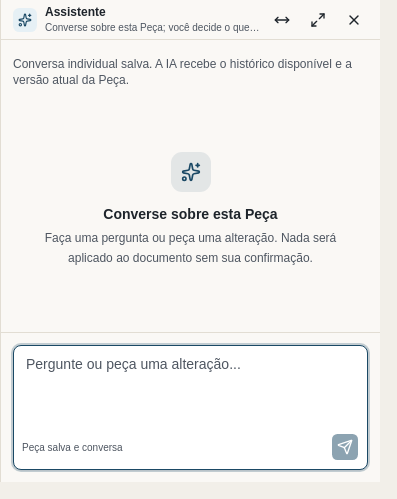
AssistantPanel › cancela a solicitação e não altera o documento
Type "Analise a peça." into the text box named "O que você quer que a IA faça?" at (190, 386), box 14,346 -> 367,426
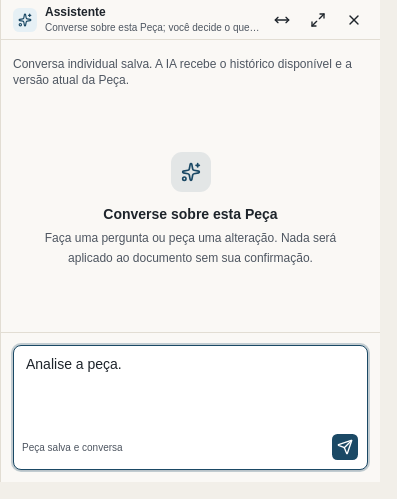
Click the button named "Enviar para IA" at (345, 447), box 331,433 -> 359,461
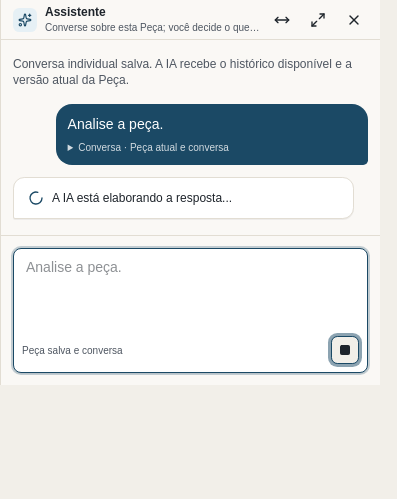
Click the button named "Cancelar" at (345, 350), box 331,336 -> 359,364
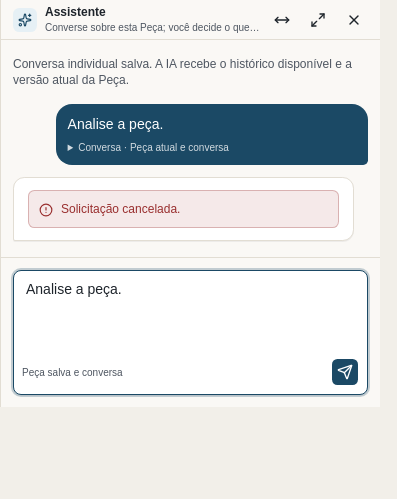
Result: the message reads "Solicitação cancelada." at 61,202 -> 180,216
